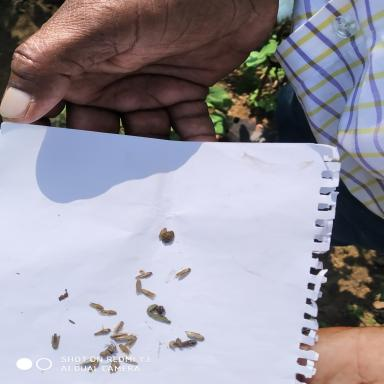pbw: (172, 266, 191, 280), (184, 330, 206, 341), (140, 287, 158, 299), (110, 355, 121, 373), (134, 270, 153, 280), (118, 343, 132, 356), (125, 335, 139, 348), (76, 357, 96, 366), (93, 326, 111, 336), (50, 333, 61, 349), (112, 320, 124, 334), (120, 356, 138, 365), (133, 279, 143, 295), (88, 301, 104, 310), (89, 360, 101, 372), (110, 333, 134, 339), (158, 227, 168, 240), (98, 309, 117, 315)
